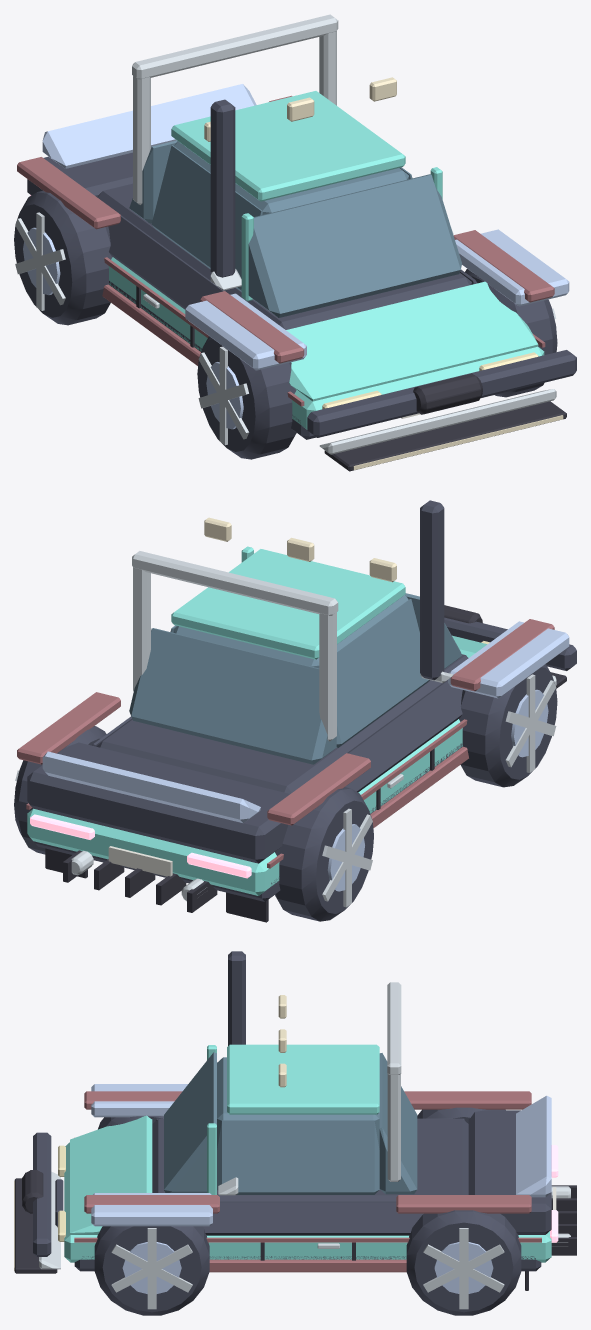
Rendered from ridge_rover.fbx.
3 renders of one model, top to bottom at view 1: azimuth 30°, elevation 25°; view 2: azimuth 150°, elevation 25°; view 3: azimuth 270°, elevation 25°, orthographic. The views are drawn at different scales.
Parts seen in each view (by area): view 1: Body, Glass, Trim2, Accent3, Accent2, Accent, Wheel_RR, Trim, Wheel_FR, Metal, Light, Wheel_FL (+2 smaller); view 2: Trim2, Glass, Body, Accent, Accent3, Accent2, Wheel_RR, Wheel_FR, Trim, Metal, Metal2, Light (+3 smaller); view 3: Body, Trim2, Glass, Accent, Accent3, Wheel_RL, Wheel_FL, Metal, Accent2, Trim, Metal2, Light (+3 smaller).
Part boxes in pixels (bbox=[...]): Body: bbox=[108, 91, 544, 429]; Glass: bbox=[129, 140, 461, 317]; Trim2: bbox=[27, 99, 576, 439]; Accent3: bbox=[42, 84, 569, 370]; Accent2: bbox=[132, 14, 556, 454]; Accent: bbox=[17, 95, 554, 406]; Wheel_RR: bbox=[14, 190, 112, 325]; Trim: bbox=[136, 286, 566, 471]; Wheel_FR: bbox=[197, 336, 296, 459]; Metal: bbox=[15, 212, 556, 445]; Light: bbox=[204, 77, 563, 470]; Wheel_FL: bbox=[465, 269, 557, 397]; Trim2: bbox=[27, 500, 576, 901]; Glass: bbox=[129, 555, 461, 764]; Body: bbox=[27, 546, 487, 895]; Accent: bbox=[17, 619, 554, 868]; Accent3: bbox=[42, 621, 569, 823]; Accent2: bbox=[132, 551, 556, 741]; Wheel_RR: bbox=[275, 787, 373, 921]; Wheel_FR: bbox=[459, 664, 557, 787]; Trim: bbox=[45, 605, 566, 922]; Metal: bbox=[15, 674, 556, 907]; Metal2: bbox=[327, 689, 548, 891]; Light: bbox=[204, 517, 396, 582]; Body: bbox=[64, 1044, 551, 1262]; Trim2: bbox=[33, 951, 551, 1271]; Glass: bbox=[164, 1052, 417, 1194]; Accent: bbox=[74, 1091, 541, 1272]; Accent3: bbox=[91, 1084, 551, 1226]; Wheel_RL: bbox=[406, 1210, 521, 1315]; Wheel_FL: bbox=[94, 1226, 209, 1315]; Metal: bbox=[111, 1186, 570, 1309]; Accent2: bbox=[39, 982, 401, 1269]; Trim: bbox=[14, 1170, 576, 1290]; Metal2: bbox=[122, 1242, 493, 1293]; Light: bbox=[14, 995, 286, 1270].
Size of the model in its own units: 3.06 by 2.83 by 5.55.
